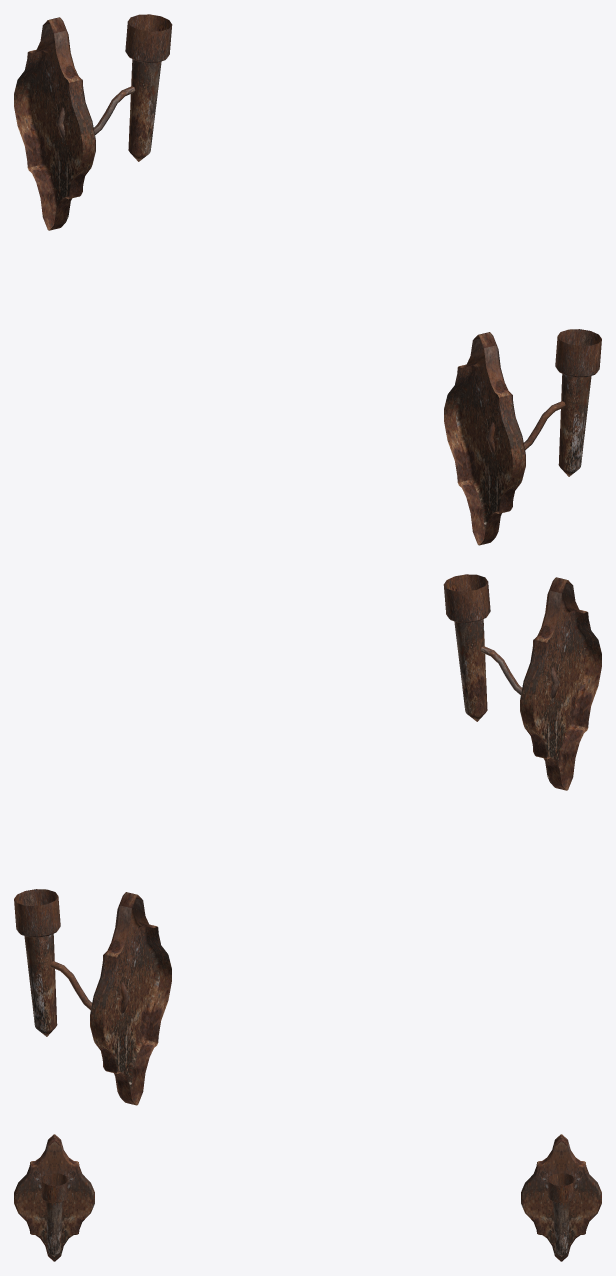
Rendered from Lampenhalter-Doppelt.gltf.
3 renders of one model, top to bottom at view 1: azimuth 30°, elevation 25°; view 2: azimuth 150°, elevation 25°; view 3: azimuth 270°, elevation 25°, orthographic. The views are drawn at different scales.
Parts seen in each view (by area): view 1: LAmpenhalter.001; view 2: LAmpenhalter.001; view 3: LAmpenhalter.001.
Boxes of the visible parts, x1=… form: LAmpenhalter.001: x1=14, y1=14, x2=601, y2=545; LAmpenhalter.001: x1=14, y1=574, x2=601, y2=1105; LAmpenhalter.001: x1=14, y1=1134, x2=601, y2=1261.
Bounding box in the file's own units: 0.6483 × 1.08 × 4.64.
Materials: 1 (1 with a texture image).
